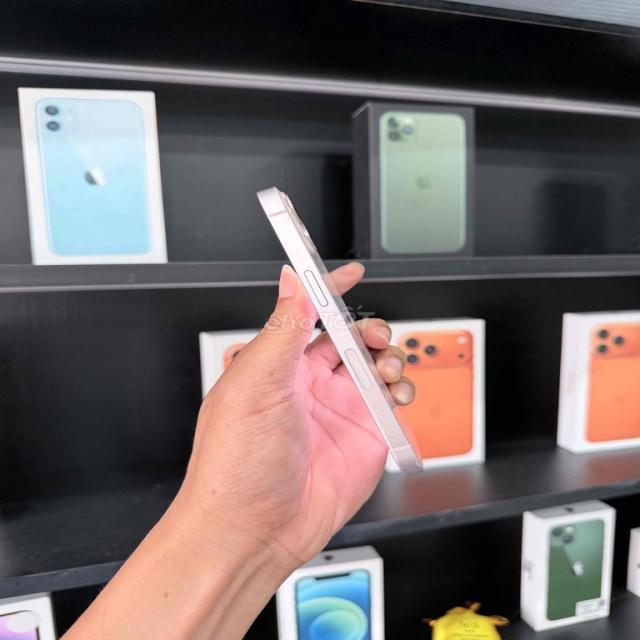gen_12_13: (243, 176, 427, 477)
